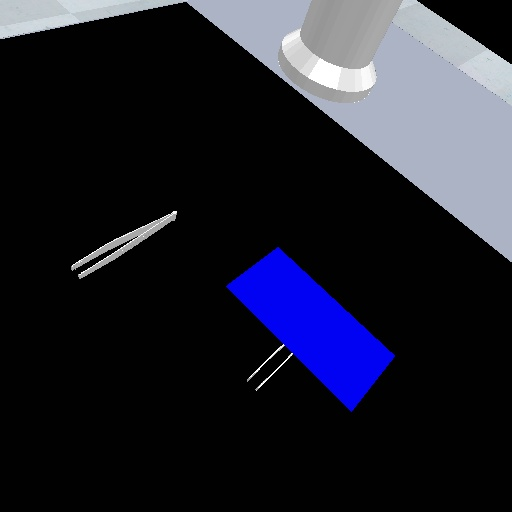pinza: (69, 207, 181, 282), (244, 342, 296, 392)
